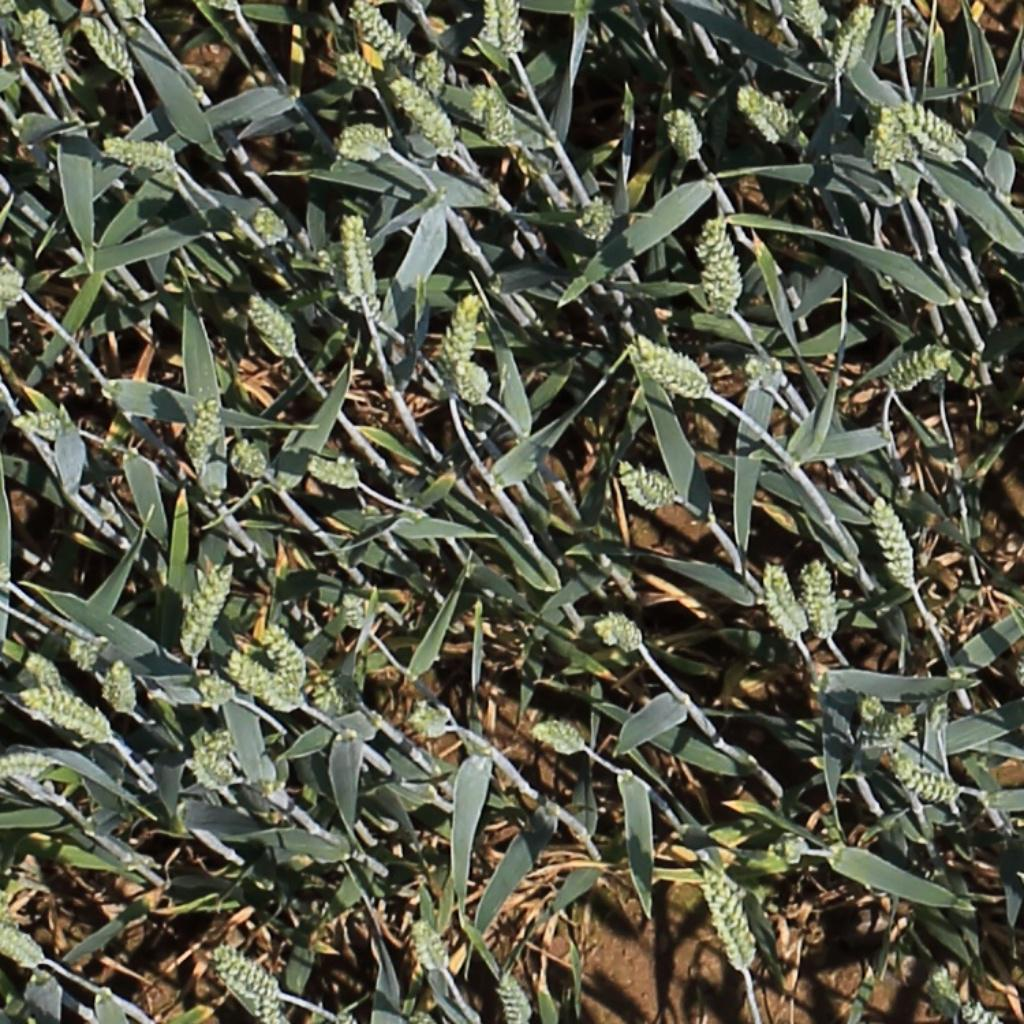0-0: (700, 864, 760, 973), (178, 559, 236, 664), (389, 72, 461, 152), (21, 649, 92, 724), (927, 959, 1008, 1022), (872, 491, 921, 593), (19, 689, 113, 742), (350, 1, 419, 72), (632, 337, 711, 397), (75, 10, 137, 84), (243, 288, 303, 360), (227, 935, 298, 995), (226, 655, 301, 711), (763, 561, 811, 647), (325, 256, 387, 320), (705, 211, 742, 316), (832, 1, 880, 81), (445, 286, 484, 383), (260, 619, 308, 697), (895, 101, 968, 152), (342, 204, 378, 305), (21, 4, 66, 80), (738, 84, 798, 141), (888, 757, 959, 804), (876, 99, 921, 173), (806, 554, 839, 647), (408, 912, 453, 978), (481, 1, 528, 62), (887, 348, 954, 390), (187, 389, 221, 471), (618, 462, 677, 509), (863, 690, 898, 768), (481, 79, 521, 147), (188, 746, 240, 794), (667, 98, 705, 162), (739, 350, 784, 402), (101, 135, 177, 165), (454, 353, 494, 409), (301, 667, 345, 716), (249, 200, 293, 248), (106, 655, 137, 722), (20, 406, 76, 443), (599, 613, 645, 658), (0, 924, 46, 968), (335, 46, 379, 92), (496, 969, 532, 1024), (333, 588, 376, 634), (196, 668, 249, 705), (865, 714, 921, 749), (410, 703, 455, 746), (229, 434, 270, 480), (334, 121, 387, 155), (533, 724, 589, 755), (584, 189, 613, 247), (307, 457, 363, 487), (419, 43, 447, 103), (795, 0, 831, 46), (249, 981, 290, 1021), (0, 760, 51, 778), (0, 266, 24, 296), (337, 1004, 360, 1024)
